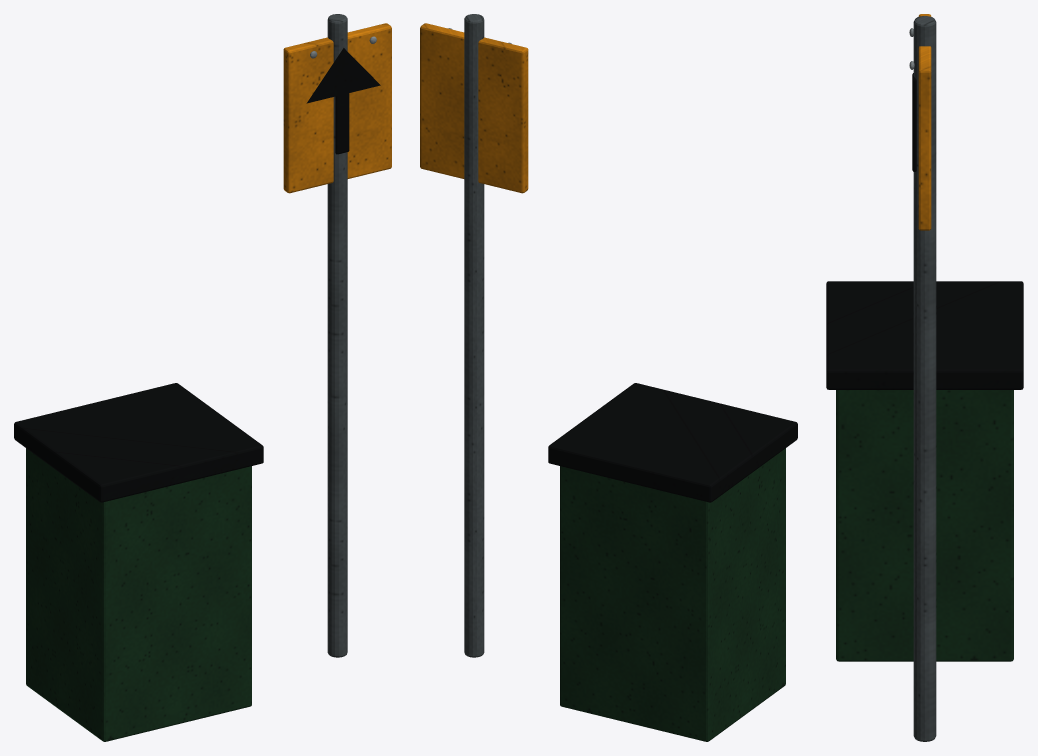
Rendered from PROP-9AB85BFF1770_lod0.glb.
3 renders of one model, left to right at view 1: azimuth 30°, elevation 25°; view 2: azimuth 150°, elevation 25°; view 3: azimuth 270°, elevation 25°, orthographic. The views are drawn at different scales.
Visible parts, largest first — view 1: waste_container, bin_lid, sign_plate.001, sign_post.001, direction_symbol.001, symbol_stem.001; view 2: waste_container, bin_lid, sign_plate.001, sign_post.001; view 3: waste_container, bin_lid, sign_post.001, sign_plate.001, symbol_stem.001.
Boxes of the visible parts, x1,y1,x2,y2 form: waste_container: (26, 448, 251, 741); bin_lid: (14, 383, 263, 502); sign_plate.001: (283, 23, 391, 193); sign_post.001: (327, 14, 347, 657); direction_symbol.001: (306, 48, 380, 103); symbol_stem.001: (335, 93, 349, 154); waste_container: (560, 448, 785, 741); bin_lid: (548, 383, 797, 502); sign_plate.001: (420, 23, 528, 193); sign_post.001: (464, 14, 484, 657); waste_container: (836, 390, 1013, 661); bin_lid: (826, 281, 1023, 389); sign_post.001: (913, 16, 936, 741); sign_plate.001: (918, 14, 931, 230); symbol_stem.001: (912, 73, 916, 171).
Bounding box in the file's own units: 1.34 × 2.45 × 0.61.
Materials: 5 (5 with a texture image).
